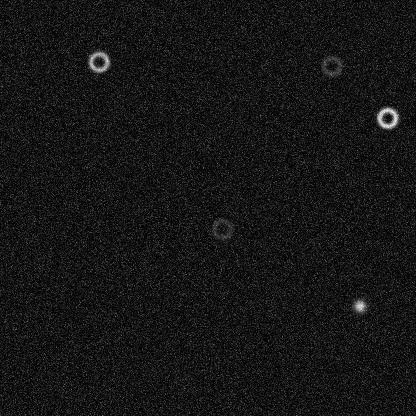Ring: (375, 105, 399, 129), (319, 54, 343, 78), (210, 216, 234, 240), (86, 49, 110, 73)
Spot: (351, 297, 367, 313)
